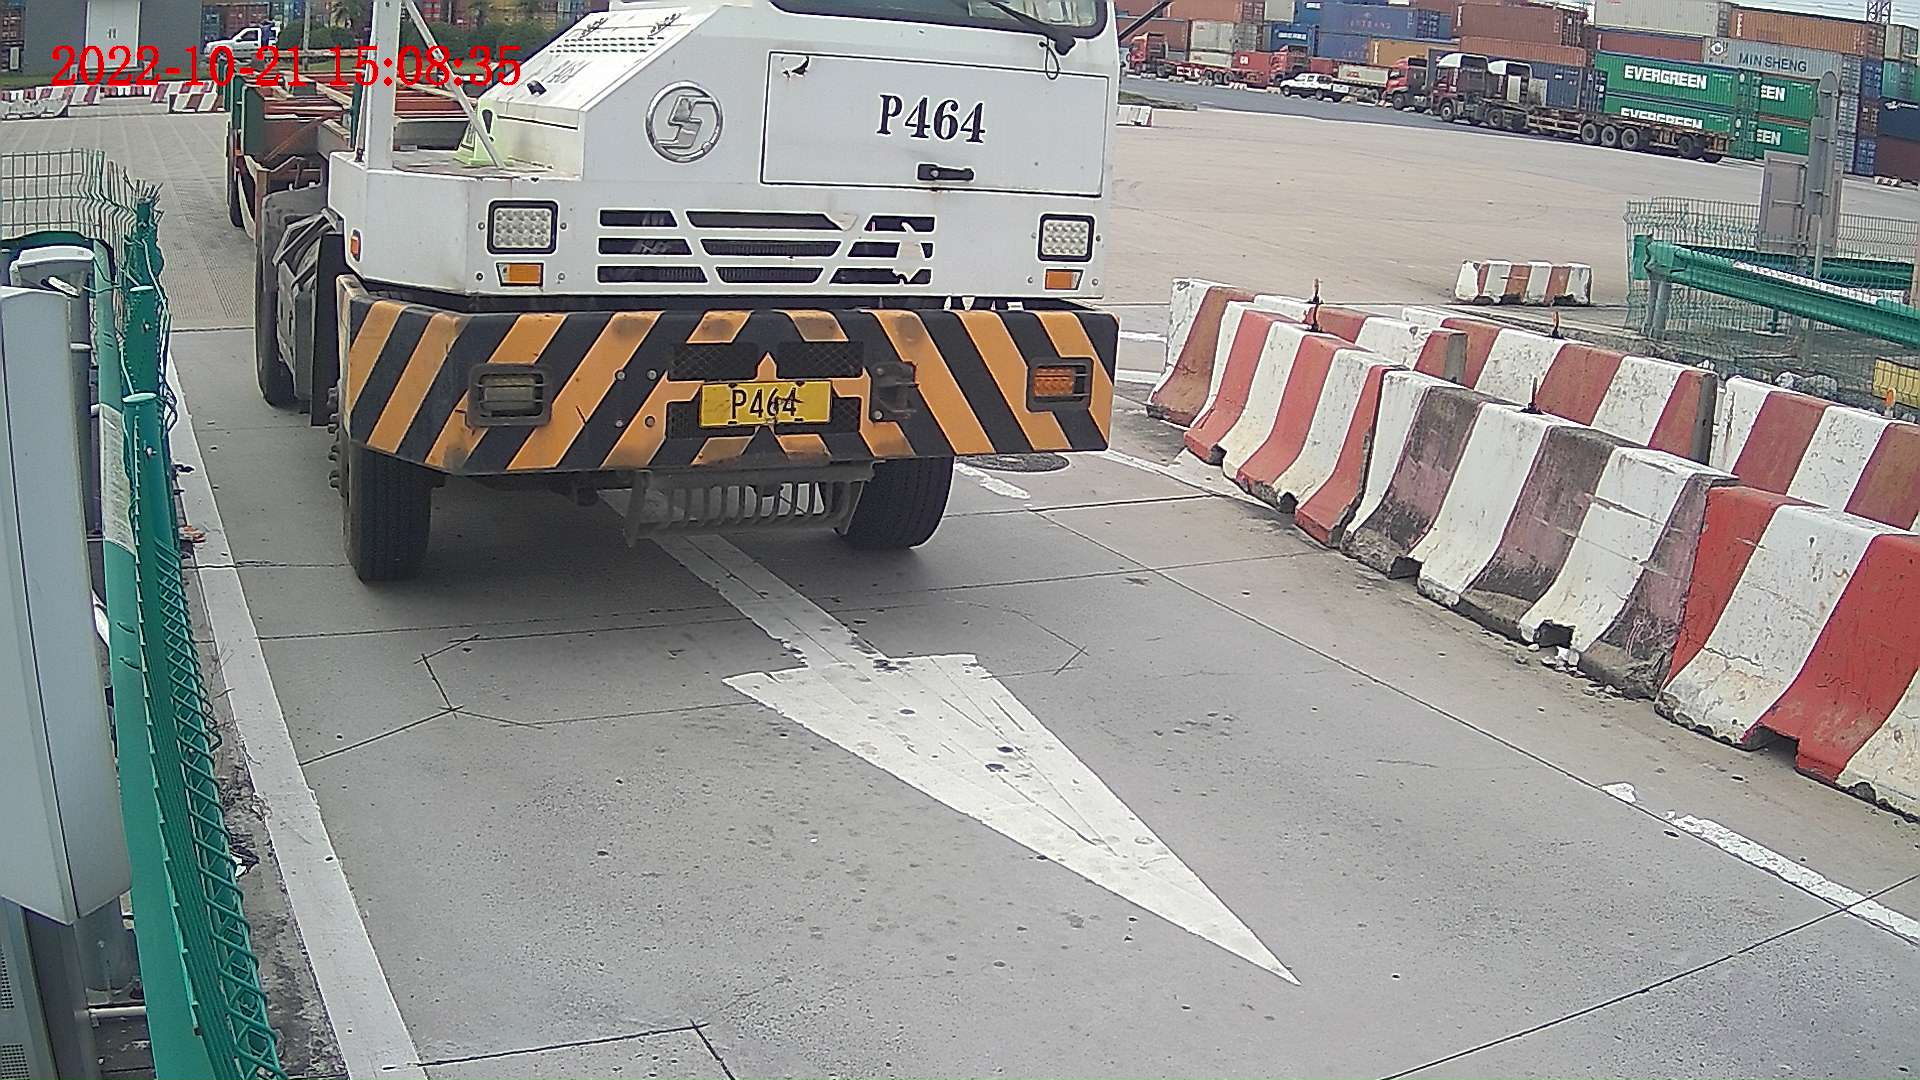head: (319, 1, 1118, 584)
plate: (705, 385, 831, 424)
